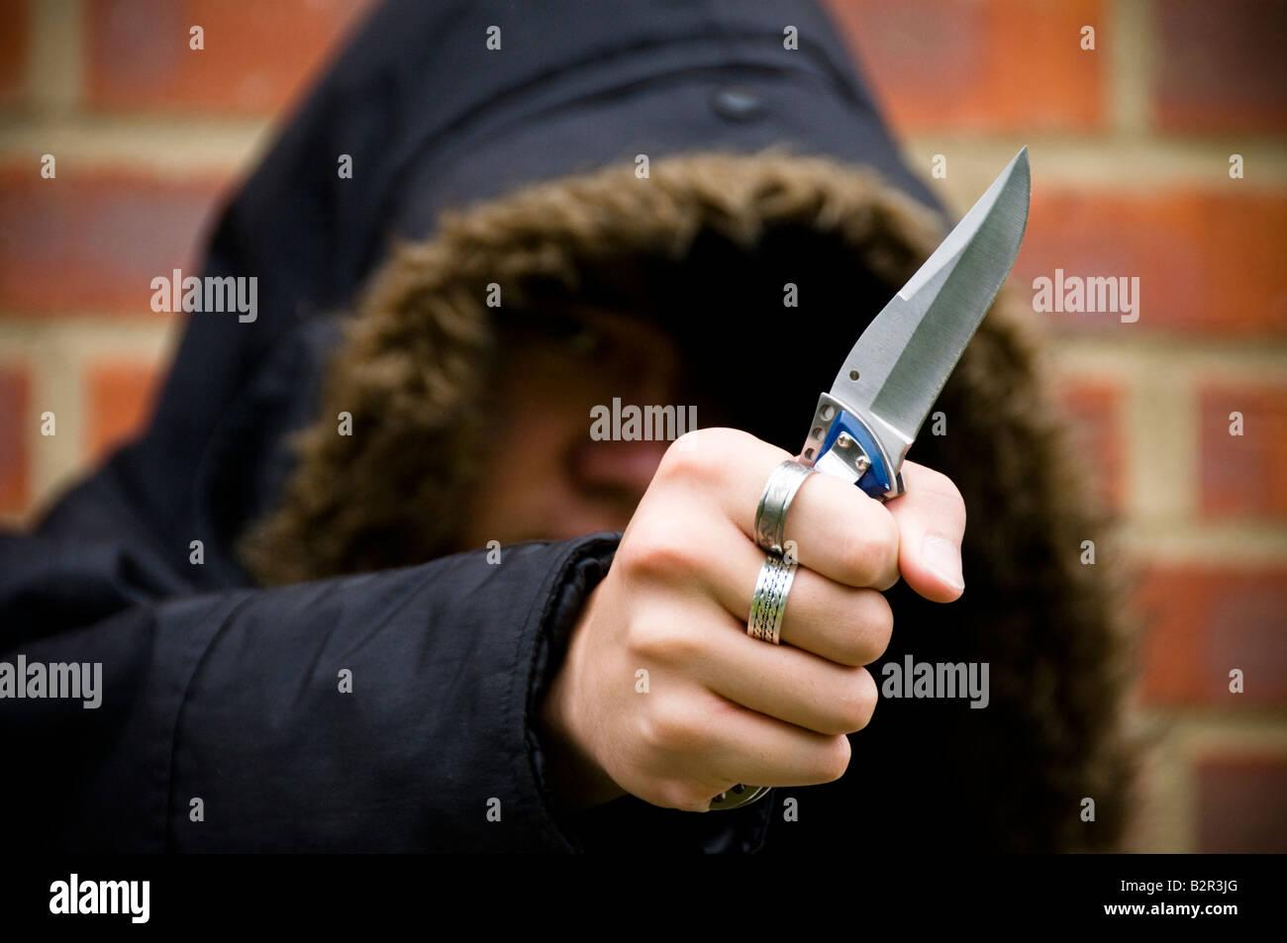Knife: (0, 0, 1146, 860), (578, 421, 965, 816), (813, 148, 1035, 469)
